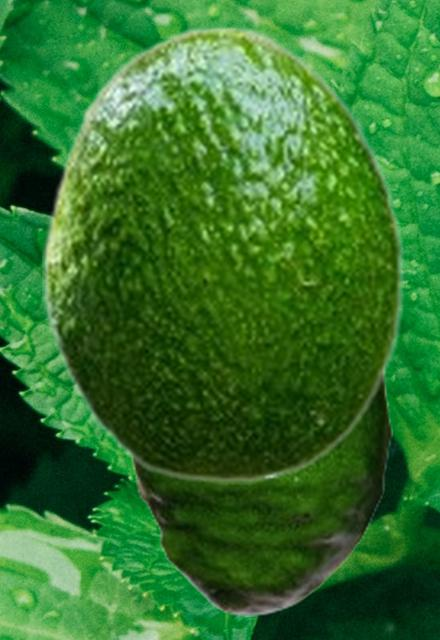avocado: (42, 24, 405, 483), (127, 372, 391, 615)
